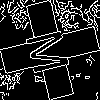M: (25, 25, 79, 77)
